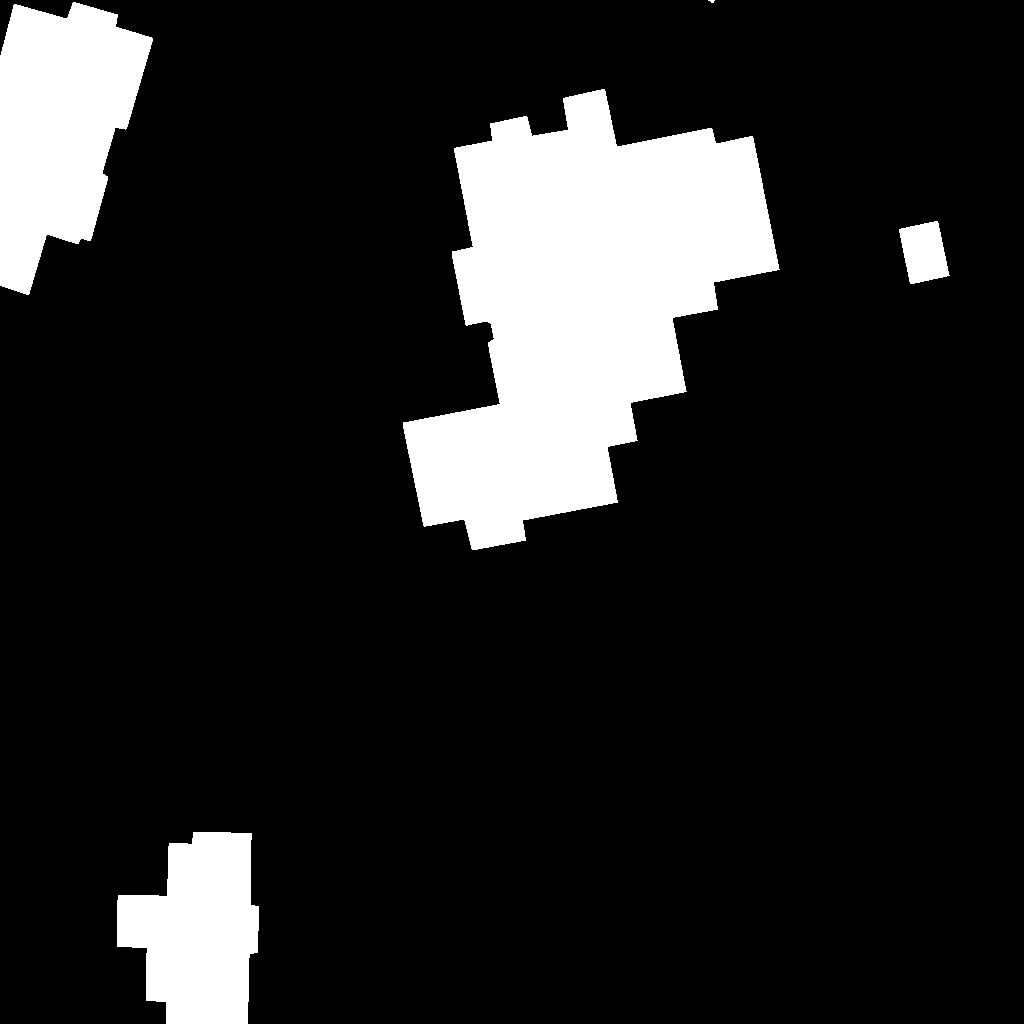building: (403, 89, 780, 551), (0, 2, 154, 296), (117, 832, 259, 1024), (899, 221, 950, 285), (708, 0, 716, 4)
